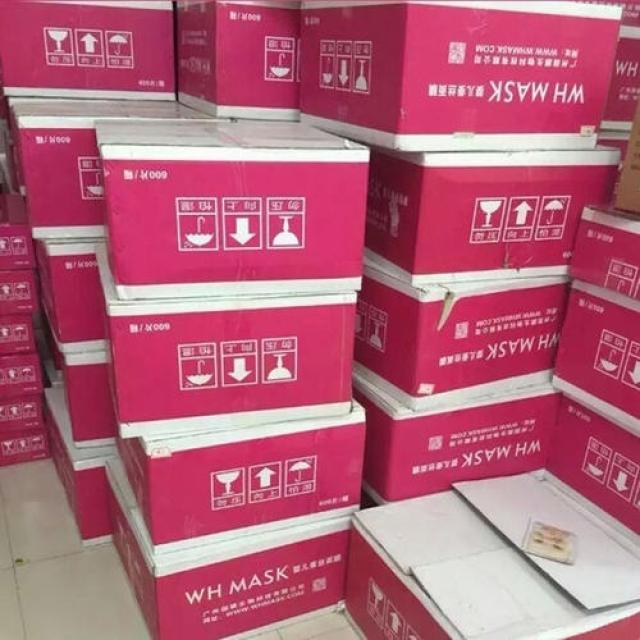box: (95, 243, 358, 439), (93, 119, 371, 300), (342, 474, 640, 640), (300, 0, 623, 152), (105, 458, 351, 640), (339, 134, 621, 285), (114, 399, 366, 556), (352, 257, 573, 412), (13, 101, 220, 239), (352, 371, 561, 503), (544, 392, 640, 558), (175, 0, 301, 122), (550, 278, 640, 434), (45, 387, 116, 548), (35, 238, 105, 352), (568, 205, 640, 300), (59, 351, 114, 448), (602, 24, 640, 132), (609, 96, 640, 220), (0, 351, 44, 399), (0, 426, 50, 466), (0, 394, 45, 433), (0, 270, 38, 315), (0, 225, 35, 270), (0, 314, 36, 356)
